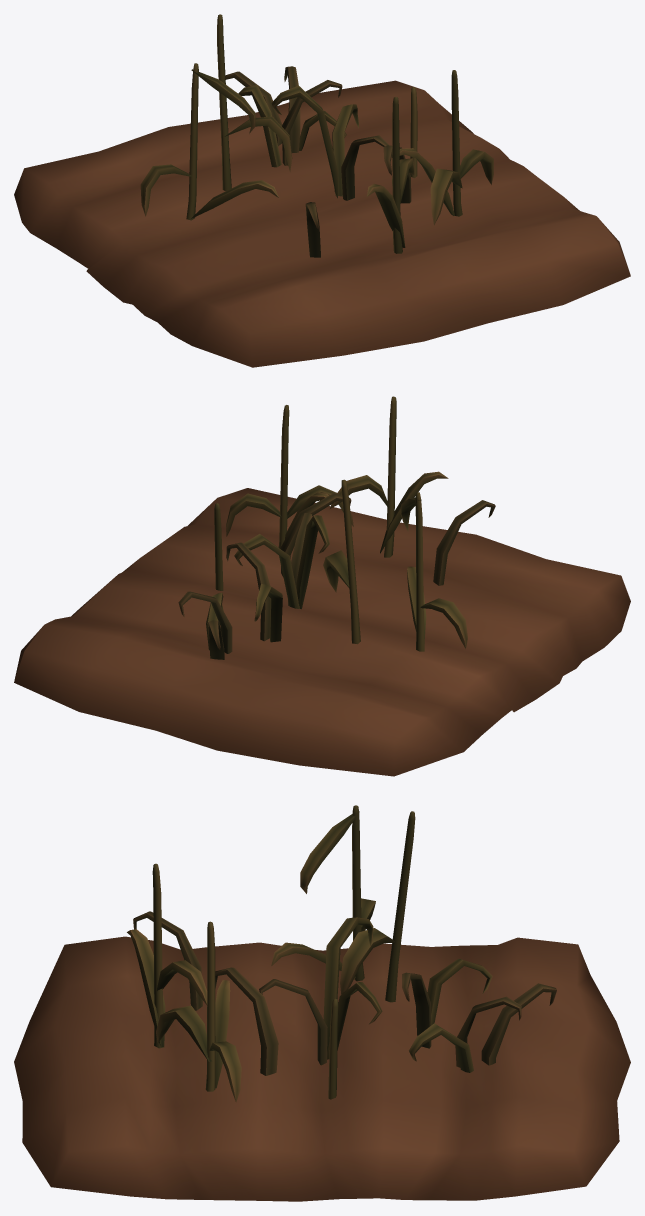
File: SM_PlantSoil_Rice_Dead.fbx
3 renders of one model, top to bottom at view 1: azimuth 30°, elevation 25°; view 2: azimuth 150°, elevation 25°; view 3: azimuth 270°, elevation 25°, orthographic. The views are drawn at different scales.
Visible parts, largest first — view 1: SM_PlantSoil_Rice_Dead; view 2: SM_PlantSoil_Rice_Dead; view 3: SM_PlantSoil_Rice_Dead.
Boxes of the visible parts, bbox=[...] form: SM_PlantSoil_Rice_Dead: bbox=[14, 14, 630, 367]; SM_PlantSoil_Rice_Dead: bbox=[14, 396, 630, 776]; SM_PlantSoil_Rice_Dead: bbox=[14, 805, 630, 1201].
Bounding box in the file's own units: 96.14 × 45.22 × 103.
